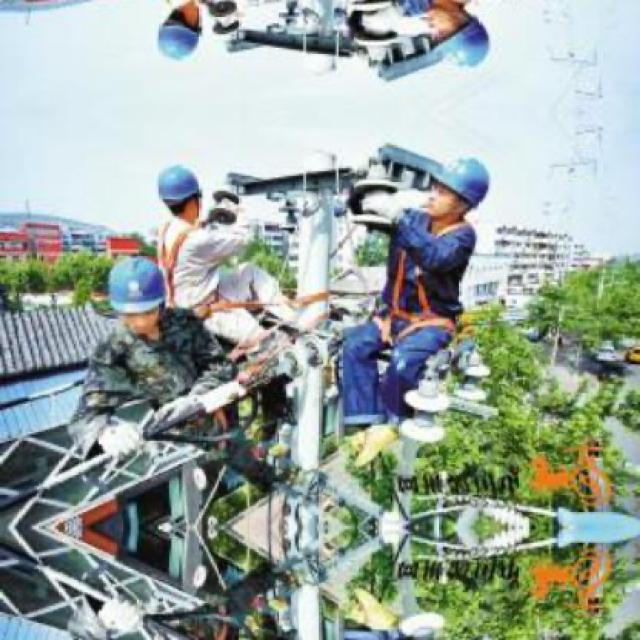con casco: (74, 246, 205, 357), (361, 161, 505, 260), (166, 164, 240, 326)
